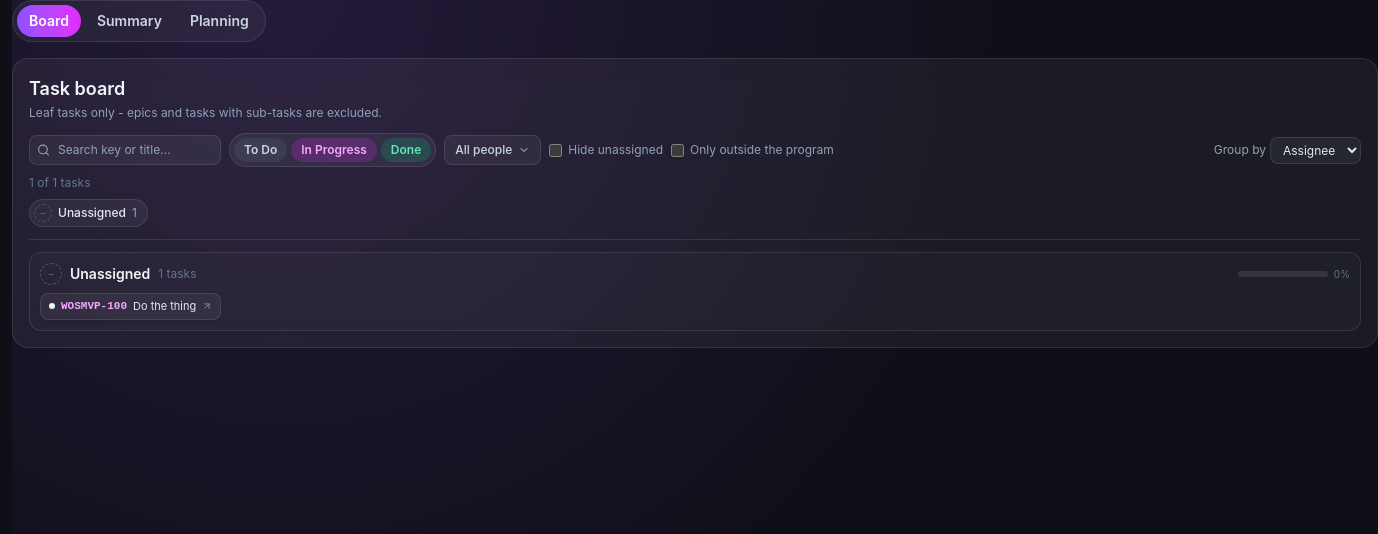
it: AtlasView Board/Summary tabs › switches to the Summary tab to reveal the add-epic form and epic list, hiding the task board
Expected: the heading "Task board" is shown, [29,78,125,99]
Click the tab "Summary": (129, 21) [85,5,174,37]
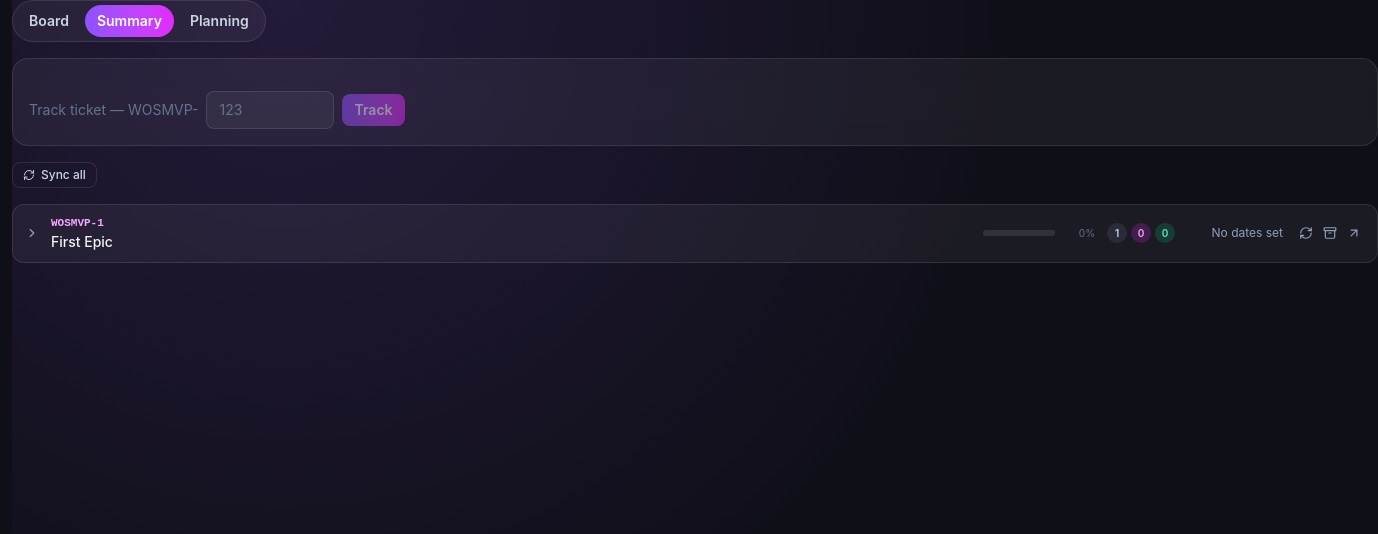
Expected: the field named "Ticket number to track" is shown, [206,91,334,129]
Expected: the element named "Tracked epics" is shown, [12,204,1377,262]
Expected: the heading "Task board" is gone
Click the tab "Board": (49, 21) [17,5,81,37]
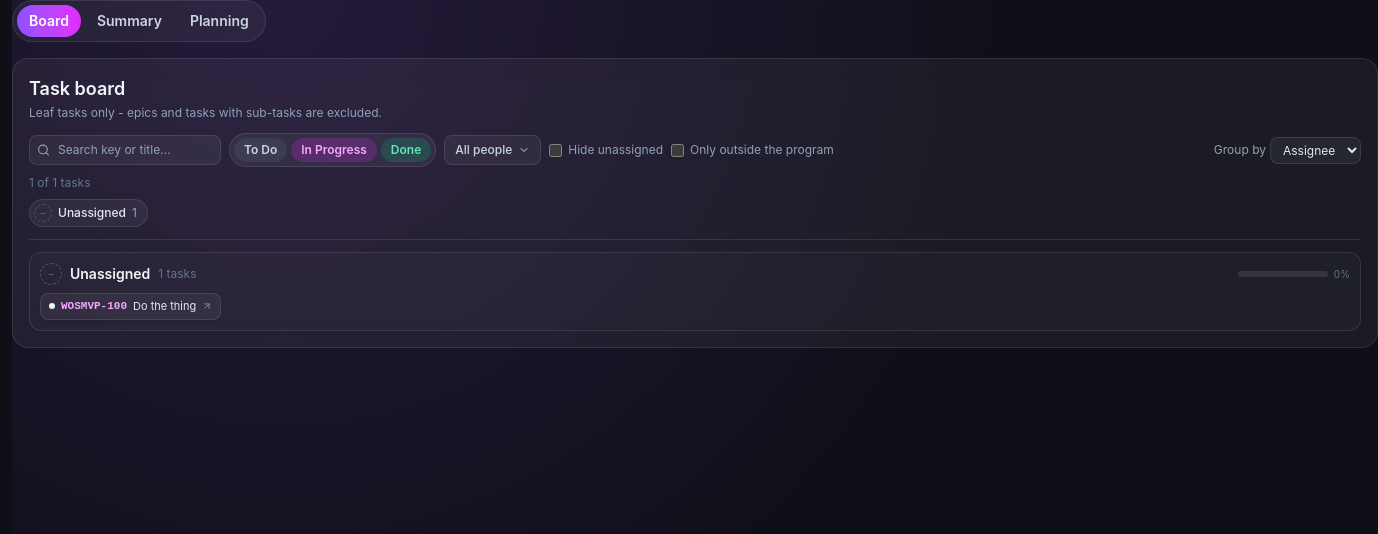
Expected: the heading "Task board" is shown, [29,78,125,99]
